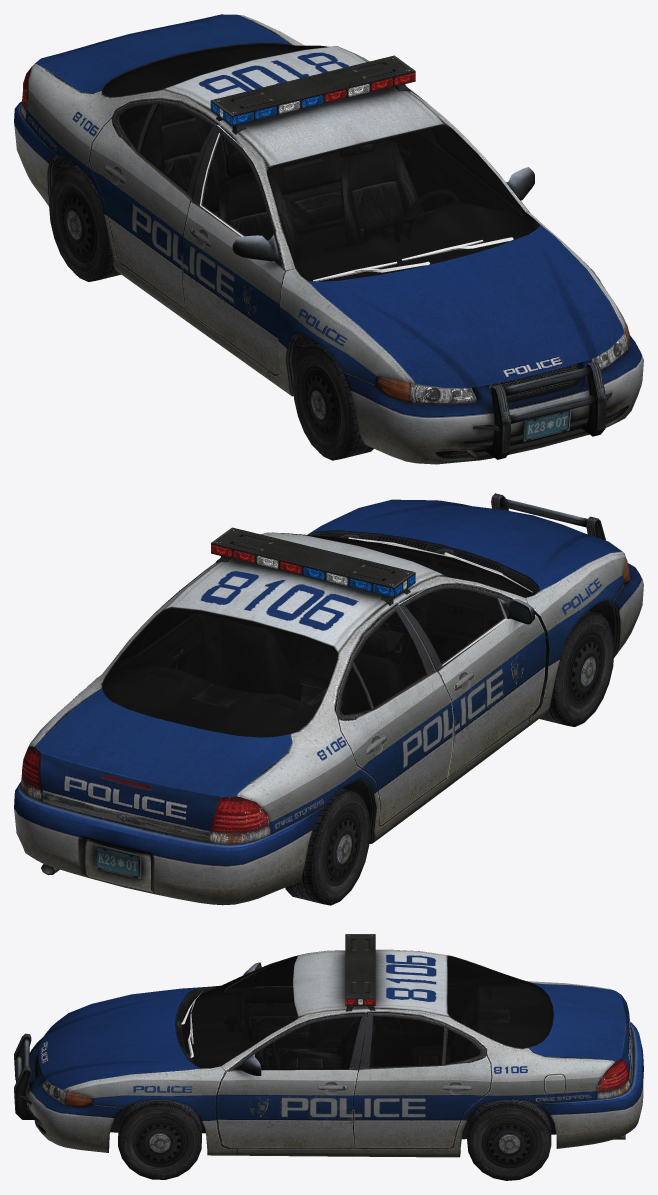
File: Police_Car_3D_Model.gltf
3 views of the same model, one above another, from view 1: azimuth 30°, elevation 25°; view 2: azimuth 150°, elevation 25°; view 3: azimuth 270°, elevation 25° (orthographic). The views are drawn at different scales.
Visible parts, largest first — view 1: Body, Front_Right, Back_Right; view 2: Body, Back_Right, Front_Right; view 3: Body, Back_Left, Front_Left.
Part boxes in pixels (x1,y1,x2,y2): Body: [14, 14, 643, 464]; Front_Right: [293, 344, 373, 460]; Back_Right: [49, 165, 120, 281]; Body: [14, 493, 643, 905]; Back_Right: [285, 788, 370, 905]; Front_Right: [539, 610, 614, 726]; Body: [14, 934, 643, 1157]; Back_Left: [467, 1099, 551, 1180]; Front_Left: [118, 1100, 201, 1179].
Size of the model in its own units: 0.2466 by 0.1862 by 0.6269.
10 materials, 8 textured.
